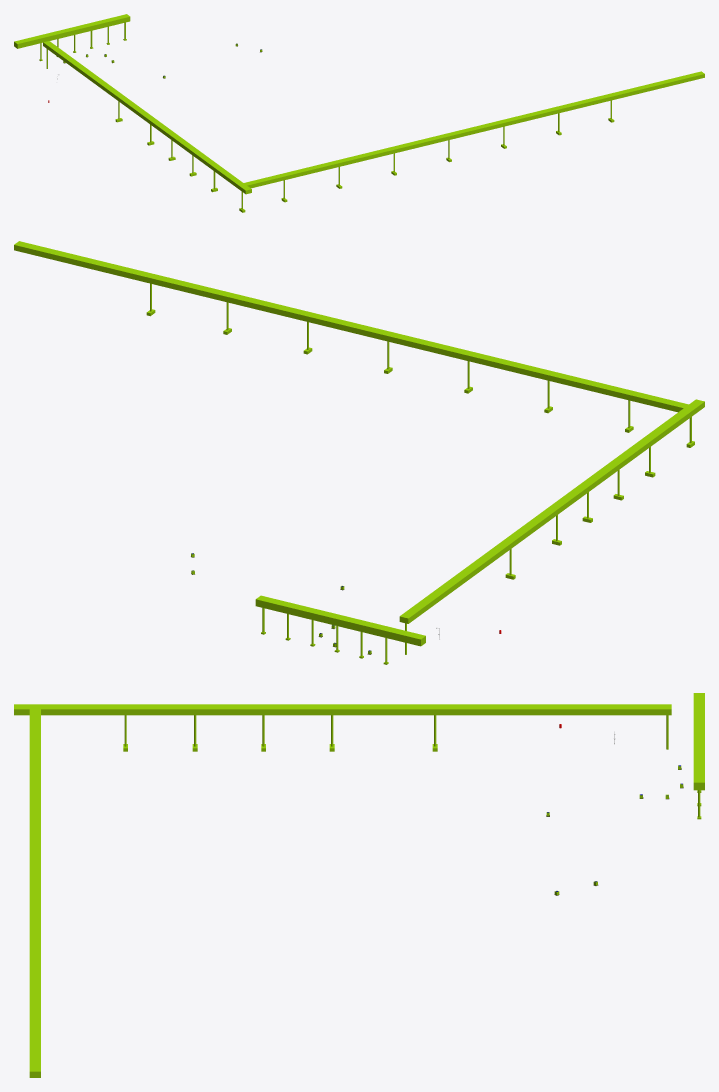
File: BorderTorreLoca.fbx
The picture shows the model from 3 angles, top to bottom: view 1: azimuth 30°, elevation 25°; view 2: azimuth 150°, elevation 25°; view 3: azimuth 270°, elevation 25°; orthographic projection. The views are drawn at different scales.
Parts seen in each view (by area): view 1: Solid (×3); view 2: Solid (×3); view 3: Solid (×3).
Part boxes in pixels (box(x1,y1,x2,y2)): Solid (×3): box(14, 14, 704, 194); Solid (×3): box(14, 241, 704, 646); Solid (×3): box(14, 693, 704, 1077).
Bounding box in the file's own units: 162 × 121 × 8.91.
